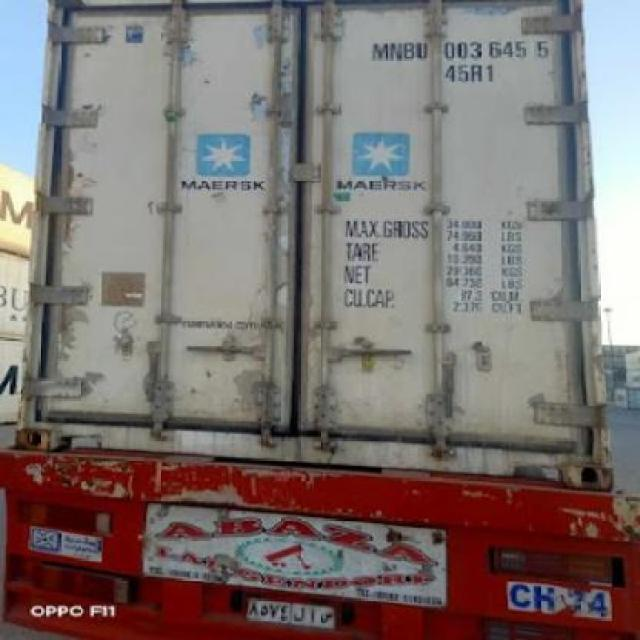ISO: (438, 66, 498, 88)
container_number: (377, 40, 545, 62)
